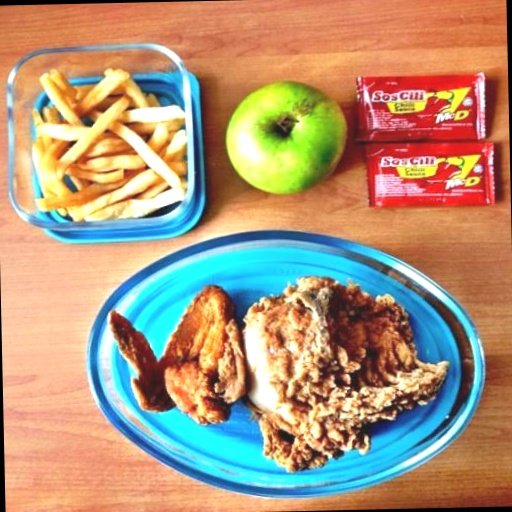fruit: (106, 73, 363, 264)
